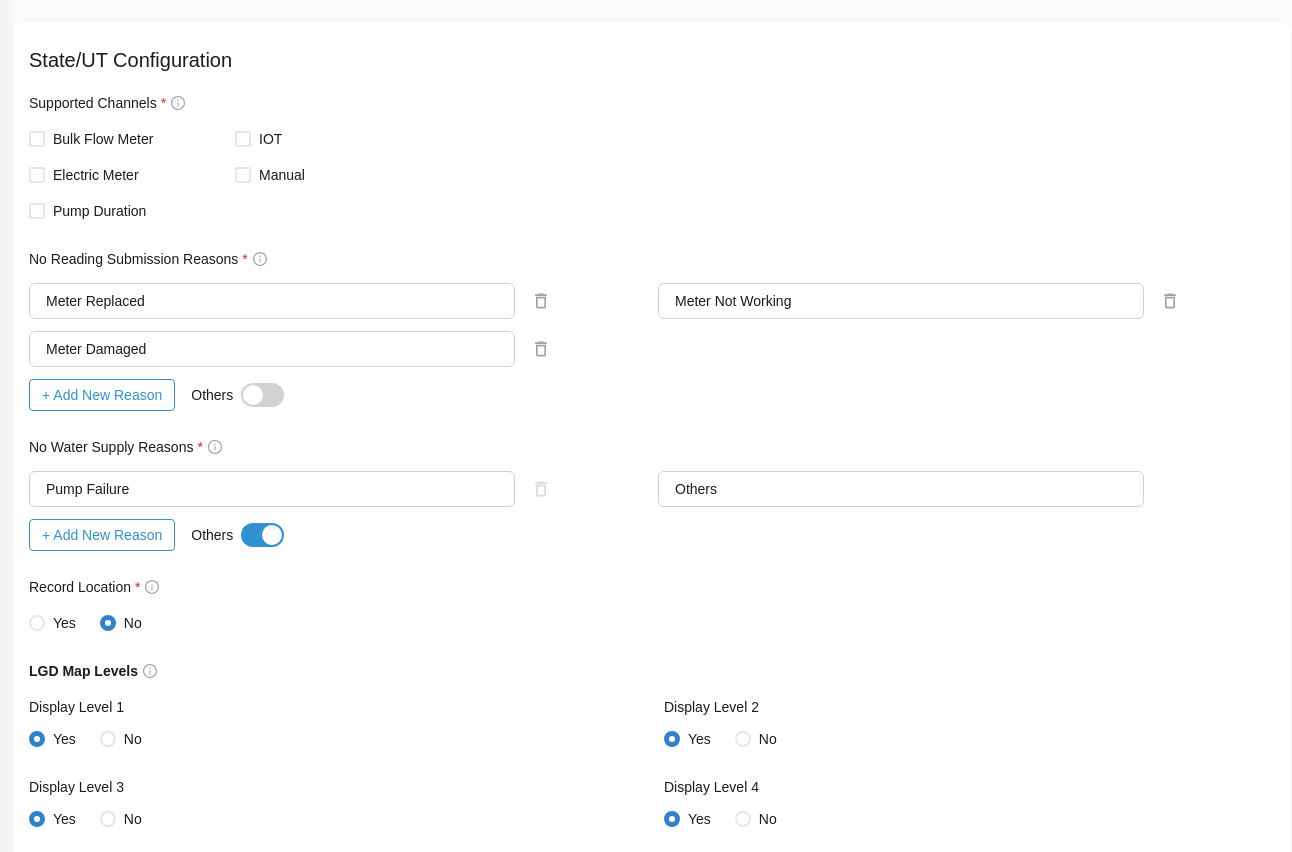
Test: ConfigurationPage › shows inline error for special characters in meter change reason
Replace the text in the field with placeholder "Enter reason" with "Reason@#$" at (272, 301), box [29, 283, 515, 319]
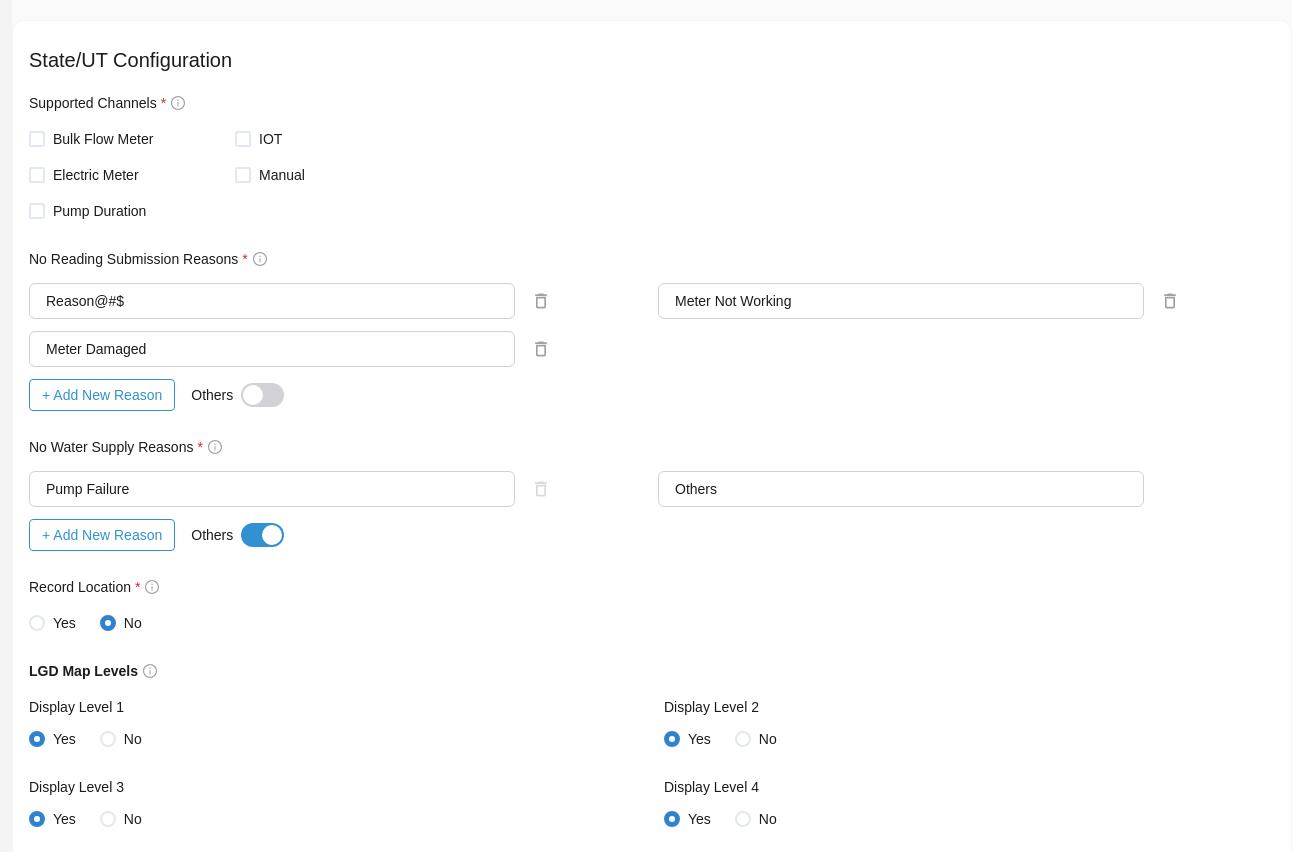
Click the text "IOT".
click(271, 139)  # box [259, 127, 282, 151]
(page scrolled)
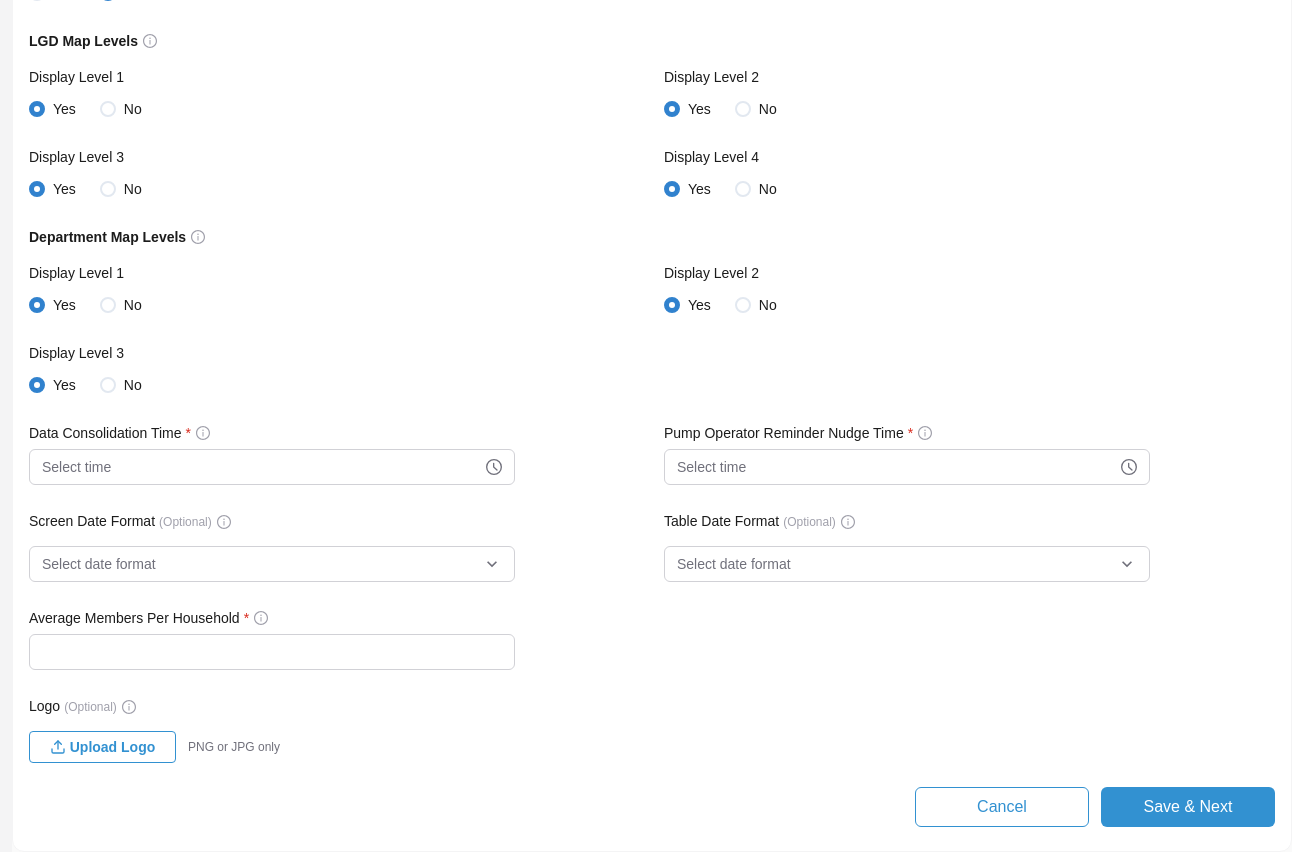
Click the button "Save & Next".
click(1188, 807)  # box [1101, 787, 1275, 827]
(page scrolled)
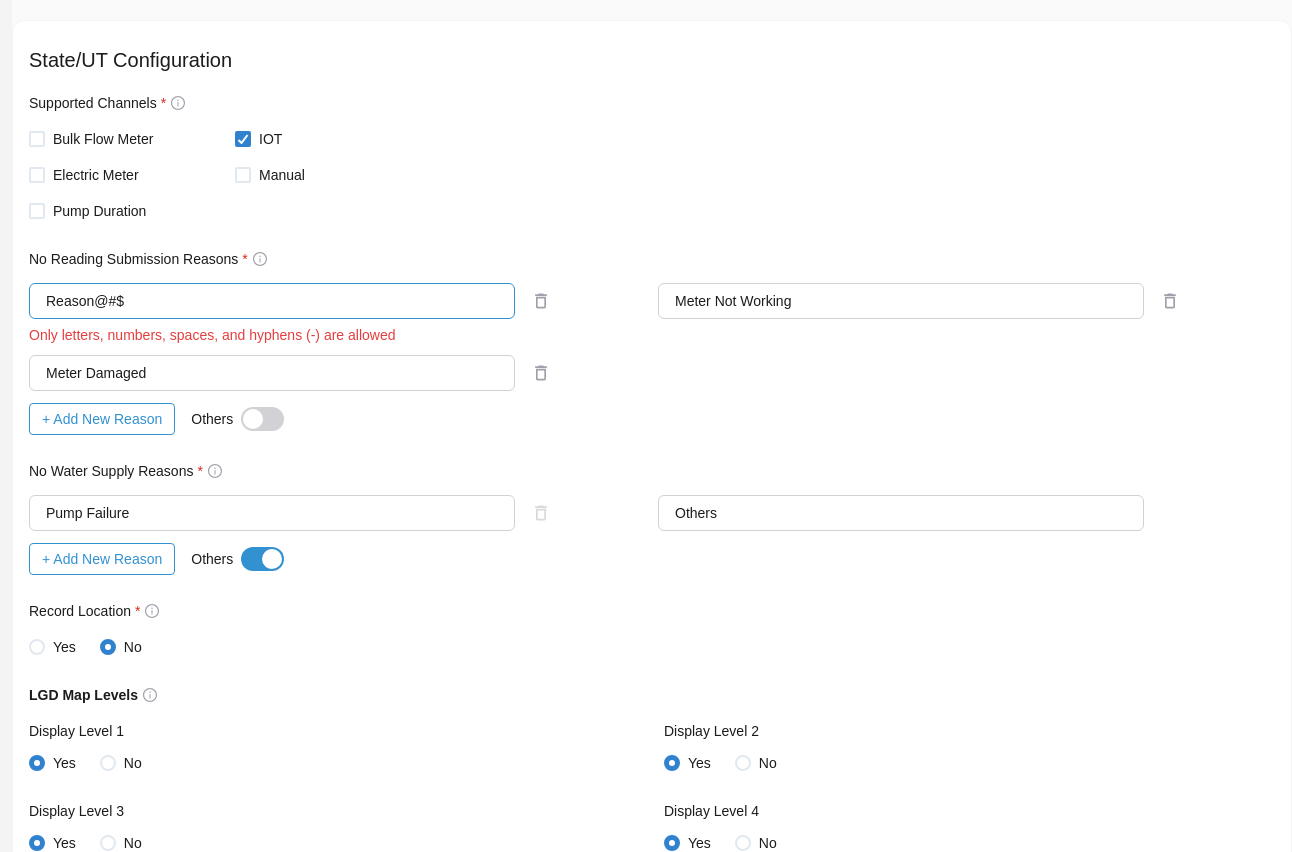
Result: the text "Only letters, numbers, spaces, and hyphens (-) are allowed" is shown at [29, 327, 396, 343]
